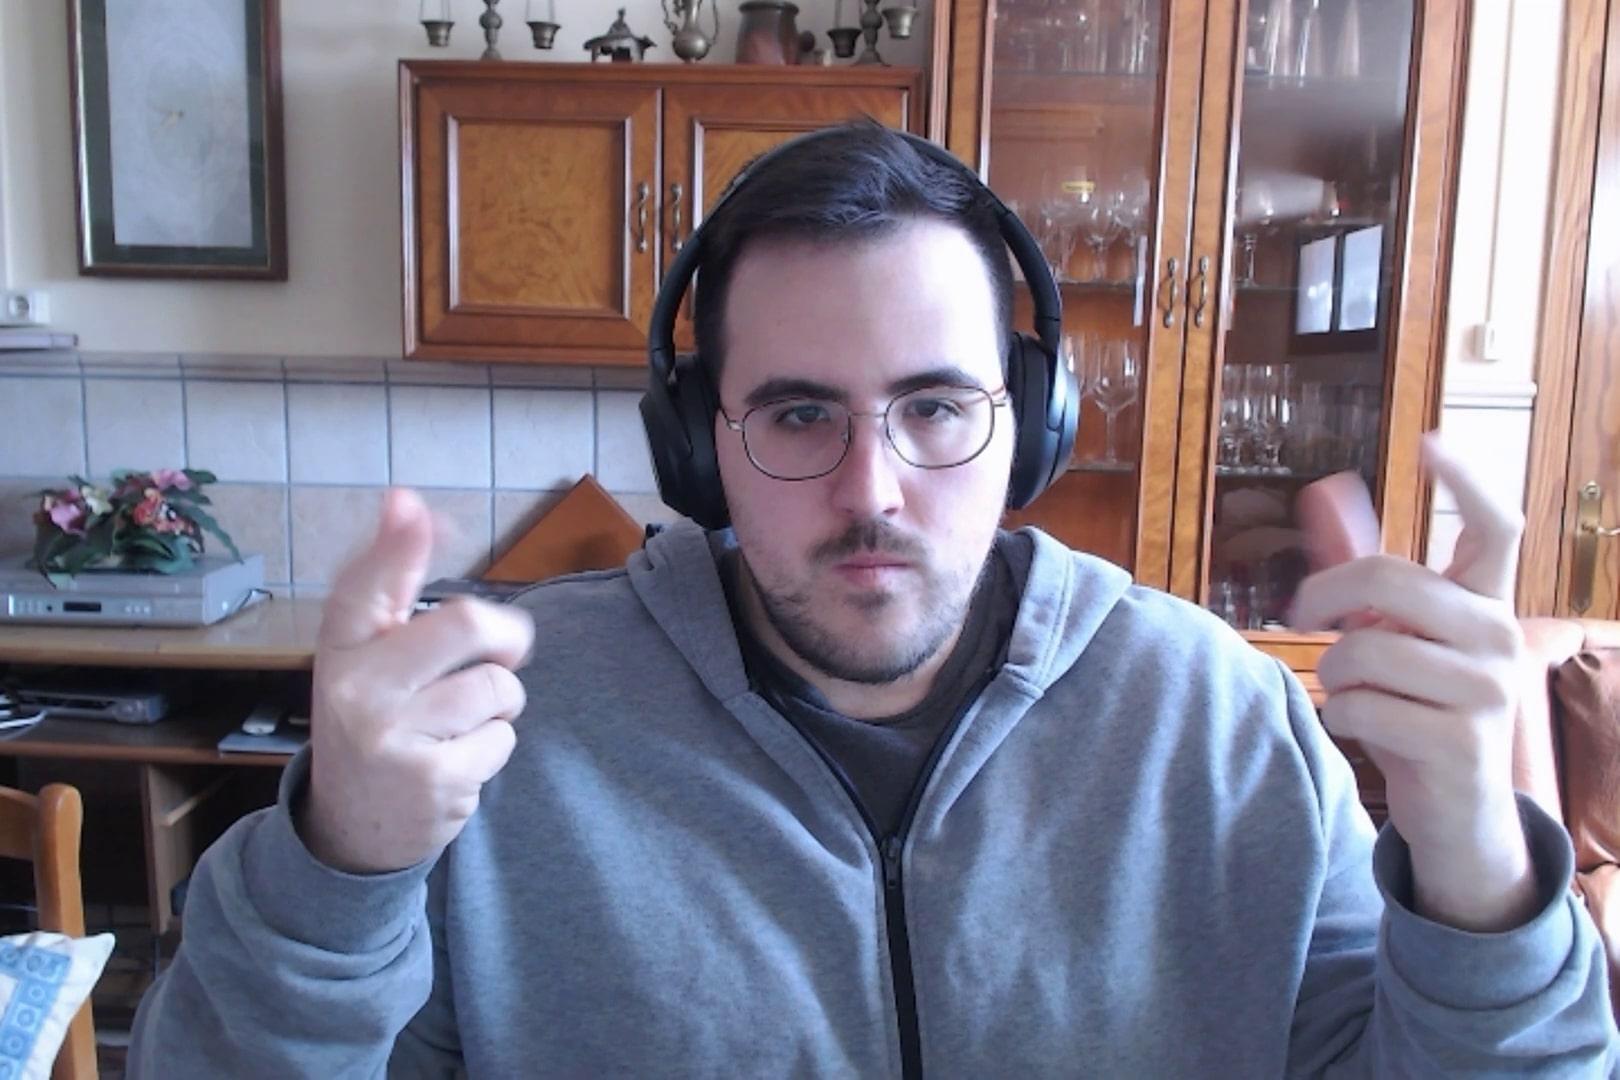hand: (1280, 428, 1555, 877), (307, 485, 533, 875)
